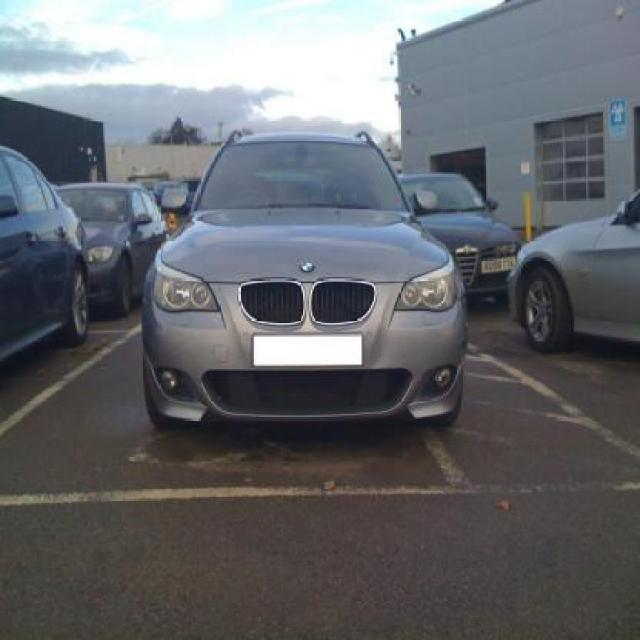License-Plates: (252, 328, 366, 369)
